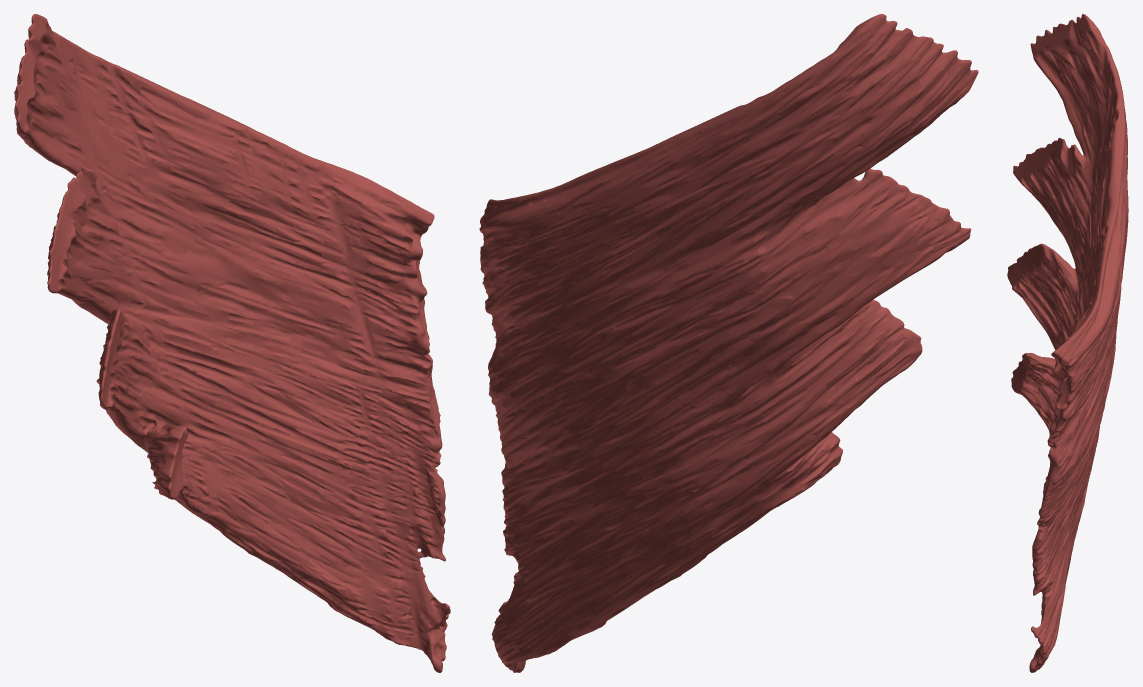
The model's file is FMA13405.glb.
The picture shows the model from 3 angles, left to right: view 1: azimuth 30°, elevation 25°; view 2: azimuth 150°, elevation 25°; view 3: azimuth 270°, elevation 25°; orthographic projection. The views are drawn at different scales.
Parts seen in each view (by area): view 1: FMA13405; view 2: FMA13405; view 3: FMA13405.
Part boxes in pixels (x1,y1,x2,y2): FMA13405: (14,14,450,672); FMA13405: (479,14,978,672); FMA13405: (1007,14,1128,672).
Size of the model in its own units: 0.11 by 0.1729 by 0.036.
